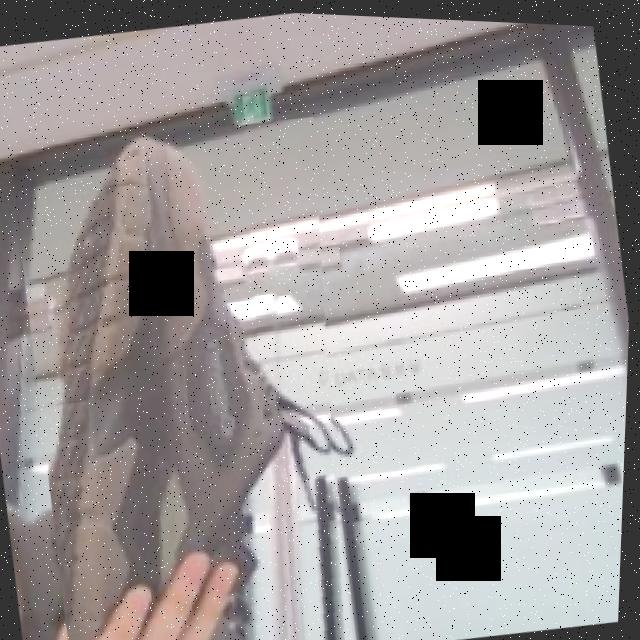shoe: (0, 103, 397, 640)
